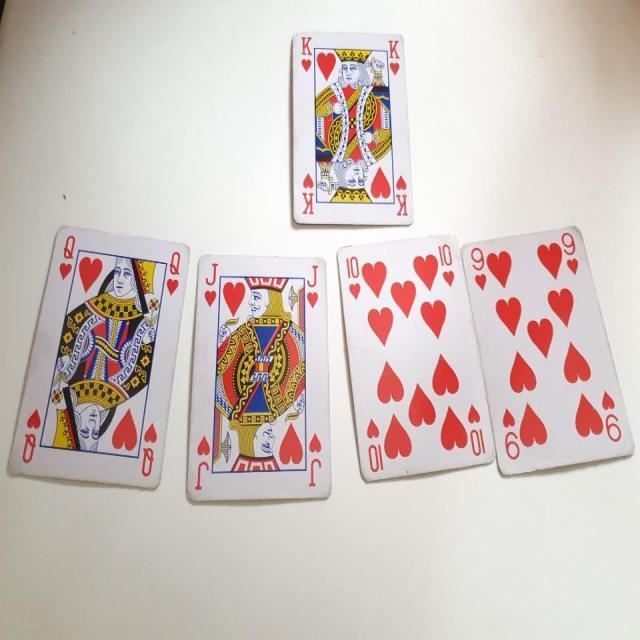10 of hearts: (334, 227, 498, 498)
9 of hearts: (448, 208, 640, 489)
jack of hearts: (184, 252, 338, 518)
king of hearts: (292, 29, 416, 232)
queen of hearts: (6, 224, 191, 496)
